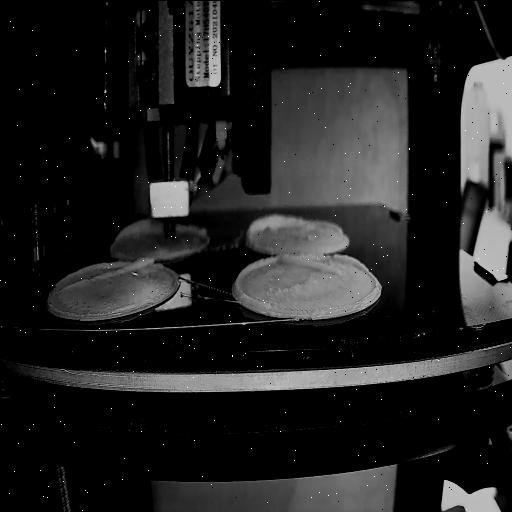over_extrusion: (54, 256, 154, 292), (233, 252, 278, 308), (282, 250, 368, 276), (240, 211, 304, 245), (113, 220, 163, 240), (314, 218, 344, 236)
